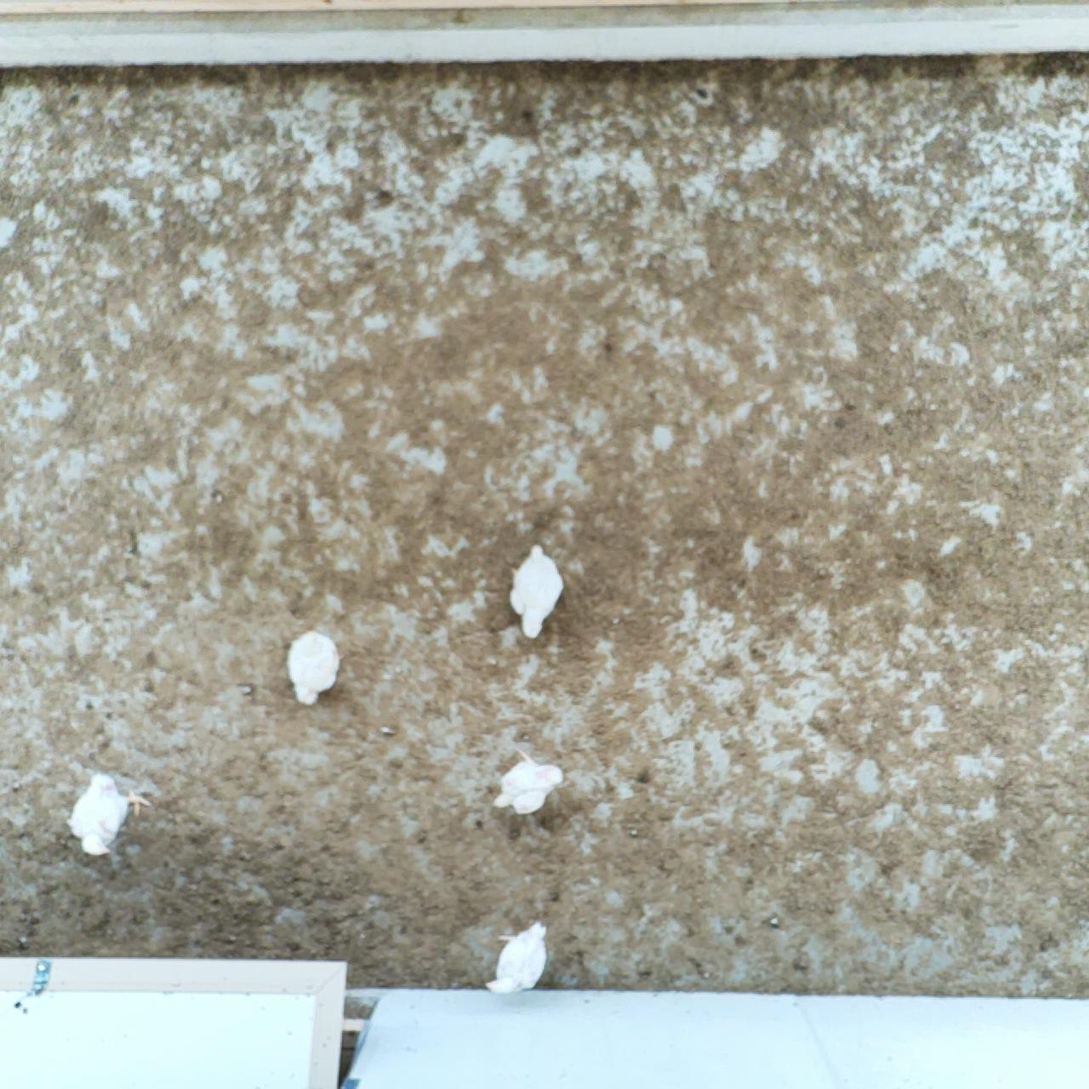chicken: (66, 767, 153, 857), (502, 539, 570, 646), (280, 624, 350, 708), (482, 915, 551, 999), (489, 754, 566, 815)
